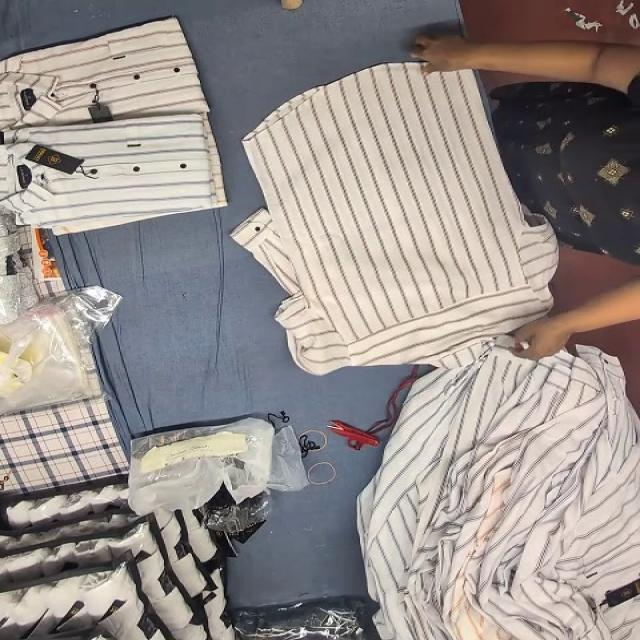new-garment: (235, 63, 556, 374)
